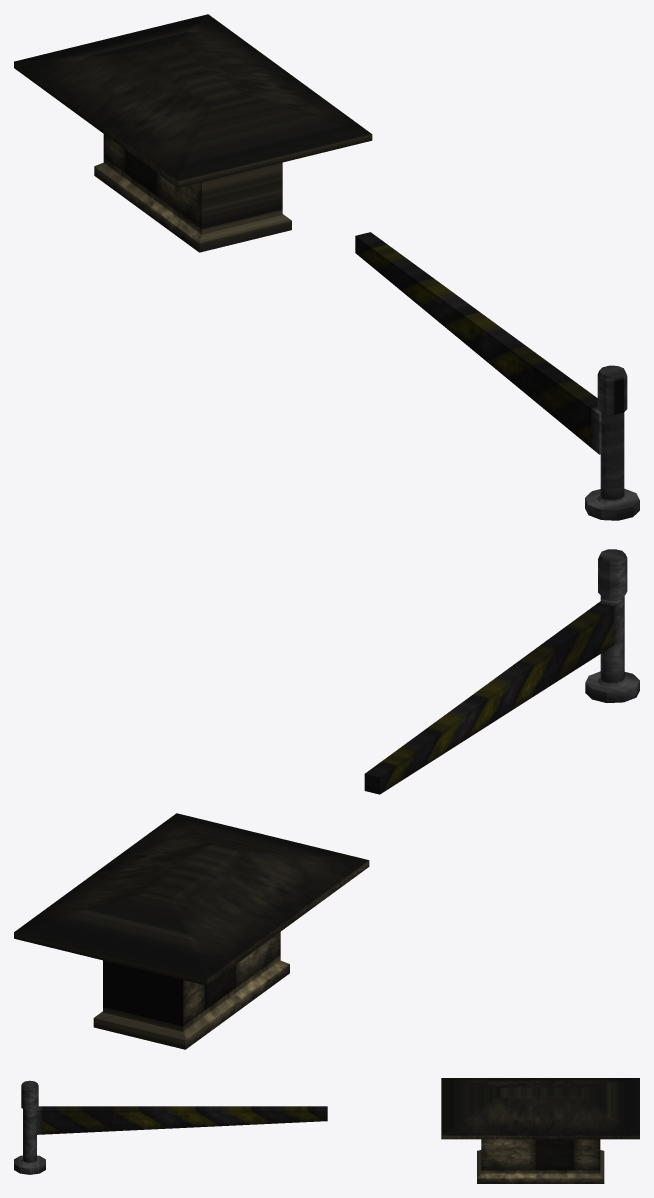
The model's file is Gate.FBX.
The picture shows the model from 3 angles, top to bottom: view 1: azimuth 30°, elevation 25°; view 2: azimuth 150°, elevation 25°; view 3: azimuth 270°, elevation 25°; orthographic projection. The views are drawn at different scales.
Visible parts, largest first — view 1: Box01; view 2: Box01; view 3: Box01.
Boxes of the visible parts, box(x1,y1,x2,y2) form: Box01: box(14, 14, 639, 520); Box01: box(14, 549, 639, 1049); Box01: box(14, 1078, 639, 1183).
Size of the model in its own units: 11.67 by 8.1 by 53.78.
